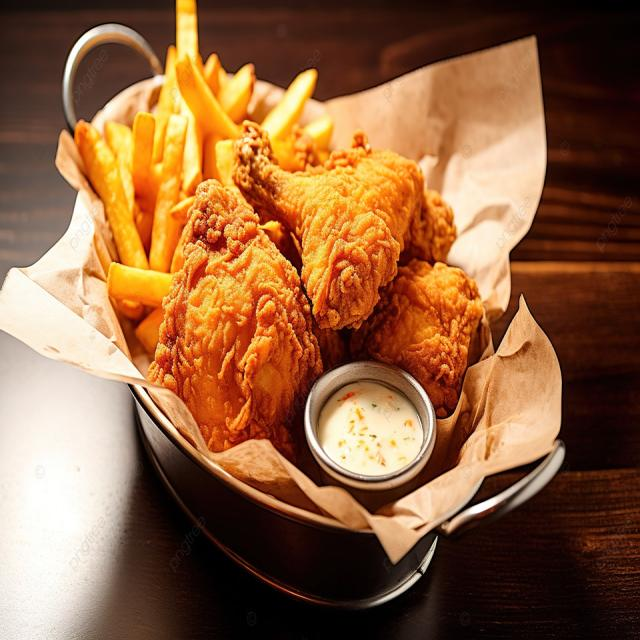carb: (77, 1, 334, 353)
meat: (150, 176, 321, 467), (239, 113, 421, 326), (352, 265, 488, 417), (409, 193, 454, 257)
